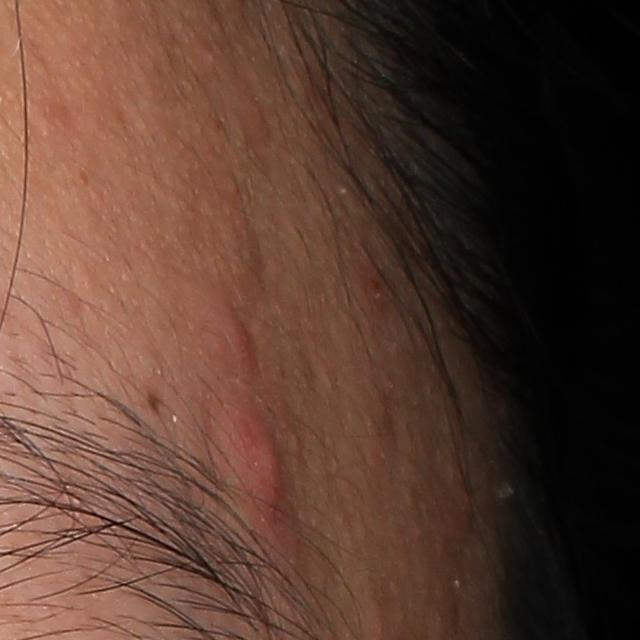nevus: (147, 390, 161, 413)
papule: (230, 406, 284, 536), (219, 300, 256, 374)
